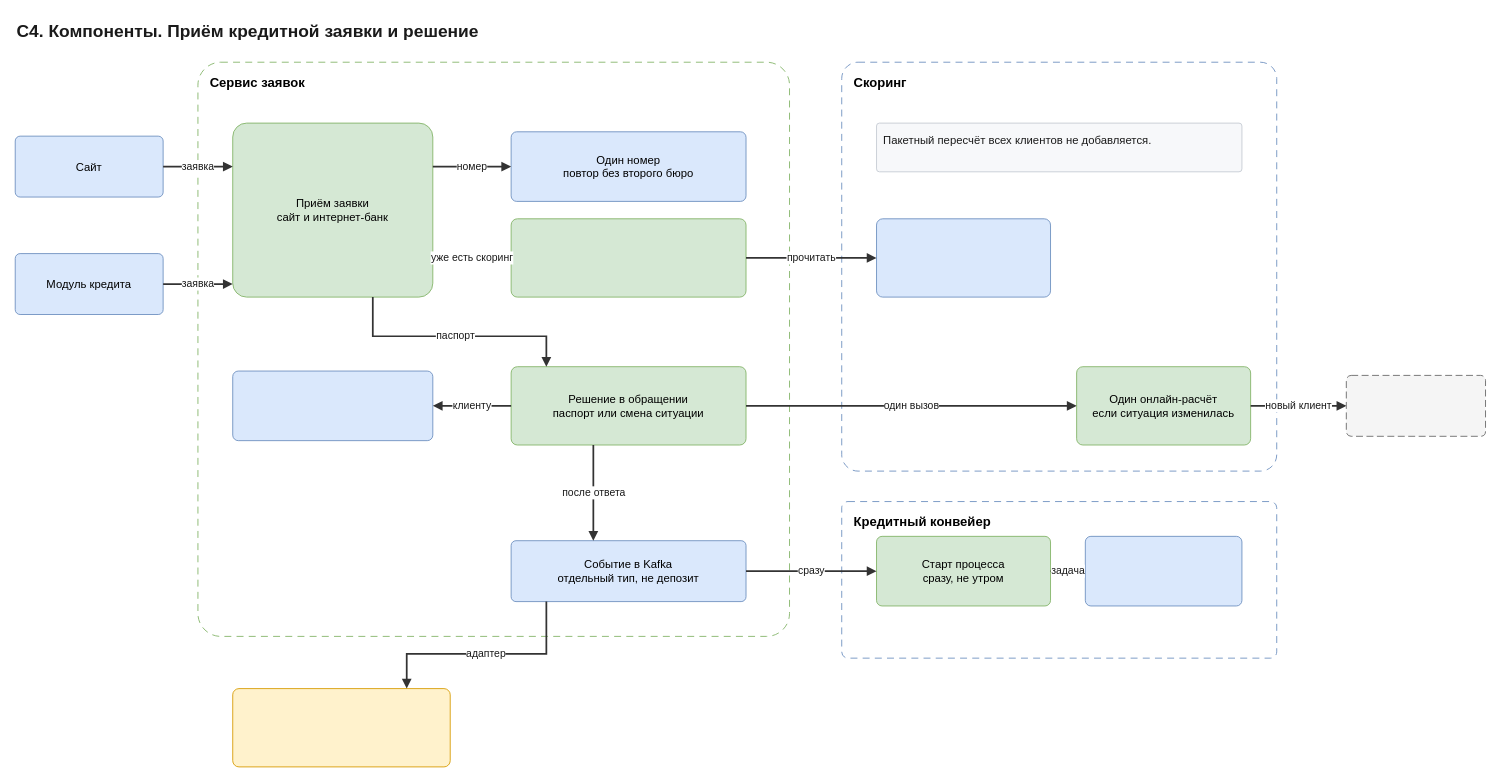
This 1501x782 diagram has some shape labels left out. Here are the shapes that lost their labels. From the top down, the centre of each, then its label:
point (628, 257): Предодобренная сумма только уже посчитанная
point (963, 257): Сохранённый результат без нового пакета
point (332, 405): СМС код, явка, статус
point (1415, 405): Бюро
point (1163, 570): Задача сотрудника на сегодня
point (341, 727): АБС оболочка по номеру ночной обмен не учащаем
